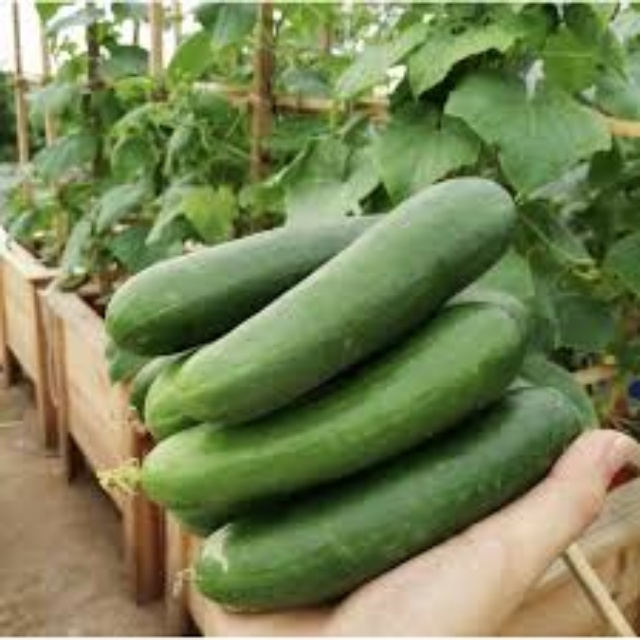dua_leo: (157, 177, 520, 440), (192, 387, 589, 613)
